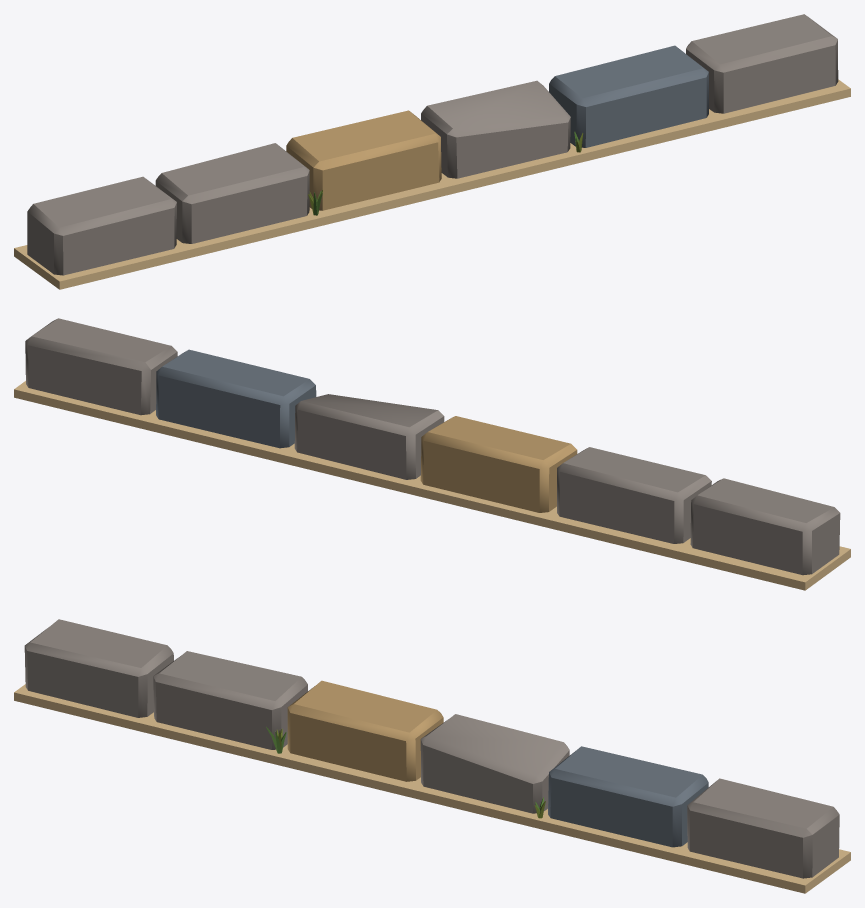
The model's file is deco_kerb_straight.fbx.
The picture shows the model from 3 angles, top to bottom: view 1: azimuth 30°, elevation 25°; view 2: azimuth 150°, elevation 25°; view 3: azimuth 330°, elevation 25°; orthographic projection.
Visible parts, largest first — view 1: Kerb_Straight_Stones, Kerb_Straight_Bed; view 2: Kerb_Straight_Stones, Kerb_Straight_Bed; view 3: Kerb_Straight_Stones, Kerb_Straight_Bed.
Boxes of the visible parts, x1=… form: Kerb_Straight_Stones: x1=27, y1=14, x2=838, y2=275; Kerb_Straight_Bed: x1=14, y1=79, x2=850, y2=289; Kerb_Straight_Stones: x1=25, y1=318, x2=840, y2=575; Kerb_Straight_Bed: x1=14, y1=381, x2=850, y2=590; Kerb_Straight_Stones: x1=24, y1=619, x2=839, y2=878; Kerb_Straight_Bed: x1=14, y1=684, x2=850, y2=893.
Bounding box in the file's own units: 400 × 31.07 × 41.26.
